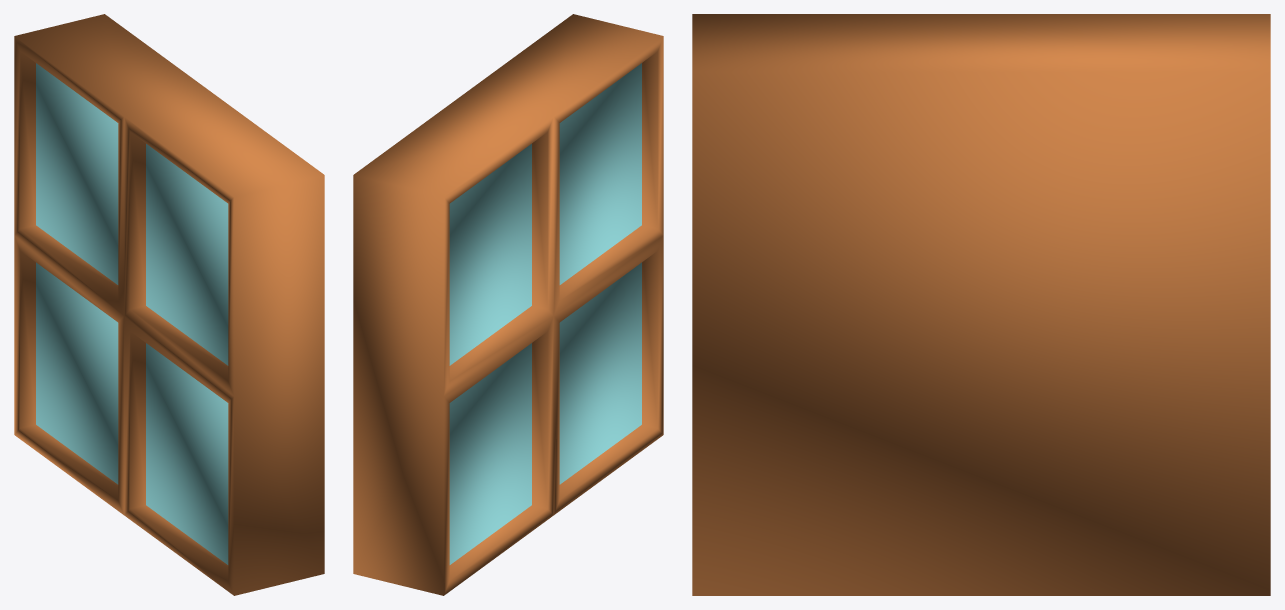
The model's file is windows.fbx.
The picture shows the model from 3 angles, left to right: view 1: azimuth 30°, elevation 25°; view 2: azimuth 150°, elevation 25°; view 3: azimuth 270°, elevation 25°; orthographic projection. The views are drawn at different scales.
Visible parts, largest first — view 1: Cube_003; view 2: Cube_003; view 3: Cube_003.
Part boxes in pixels (x1,y1,x2,y2): Cube_003: (14, 14, 324, 595); Cube_003: (353, 14, 663, 595); Cube_003: (692, 14, 1270, 595).
Size of the model in its own units: 0.4753 by 2 by 2.
